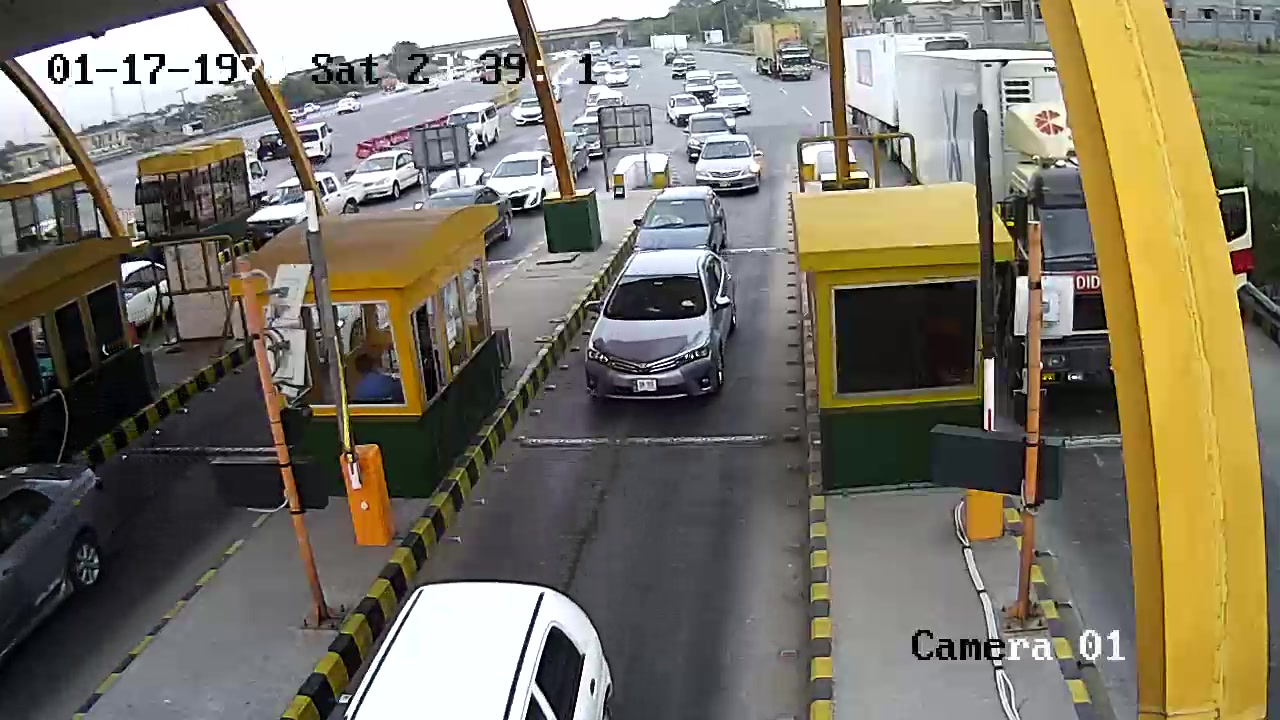F1: (583, 248, 748, 407)
